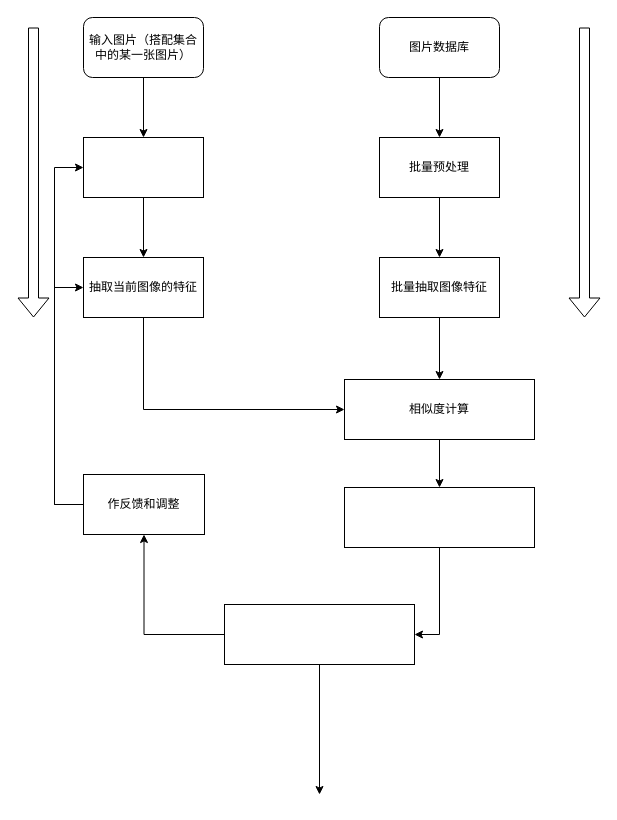
Some shapes in this 617 by 820 pixel diagram are drawn without their labels. Each missing label, with the box of its shape:
召回结果: (224, 604, 414, 664)
数据预处理: (82, 136, 204, 198)
查找索引取结果: (344, 486, 534, 548)
